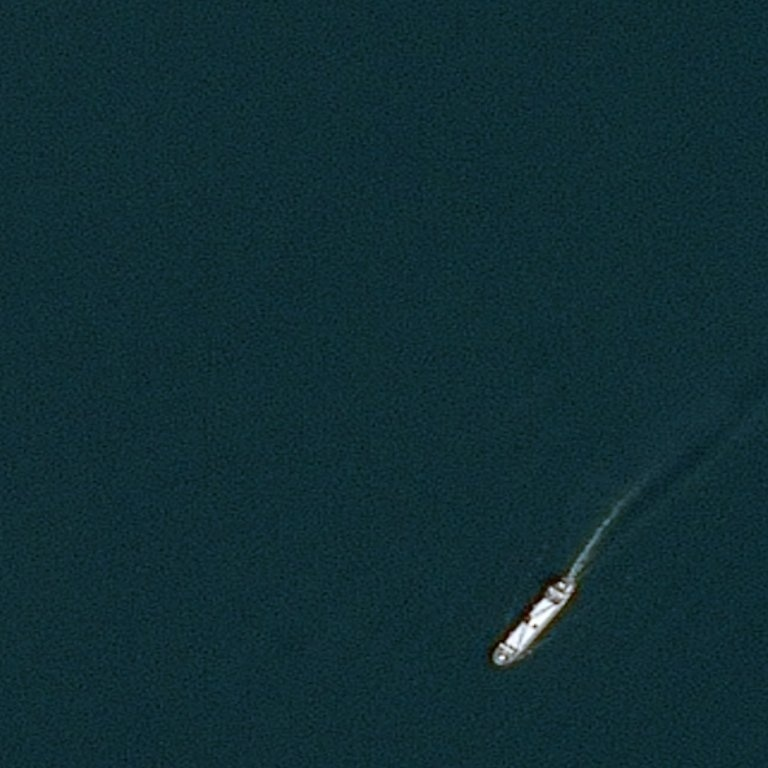ship: (492, 576, 575, 665)
